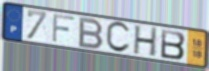7: (26, 8, 48, 41)
B: (77, 16, 105, 50), (160, 28, 187, 61)
C: (105, 20, 132, 54)
F: (51, 13, 77, 45)
H: (132, 25, 159, 59)
